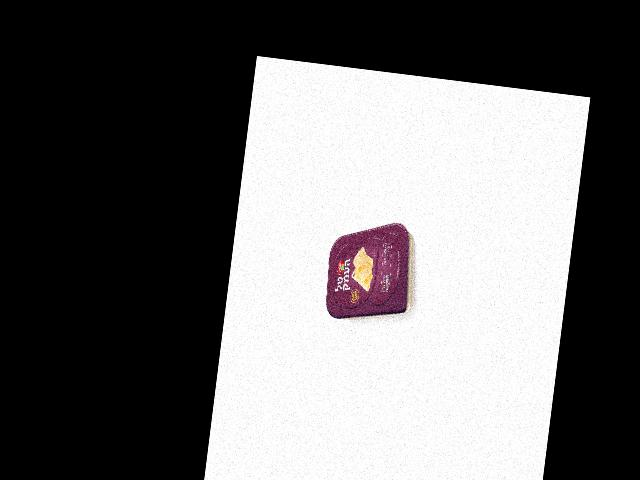cheese: (321, 214, 422, 327)
